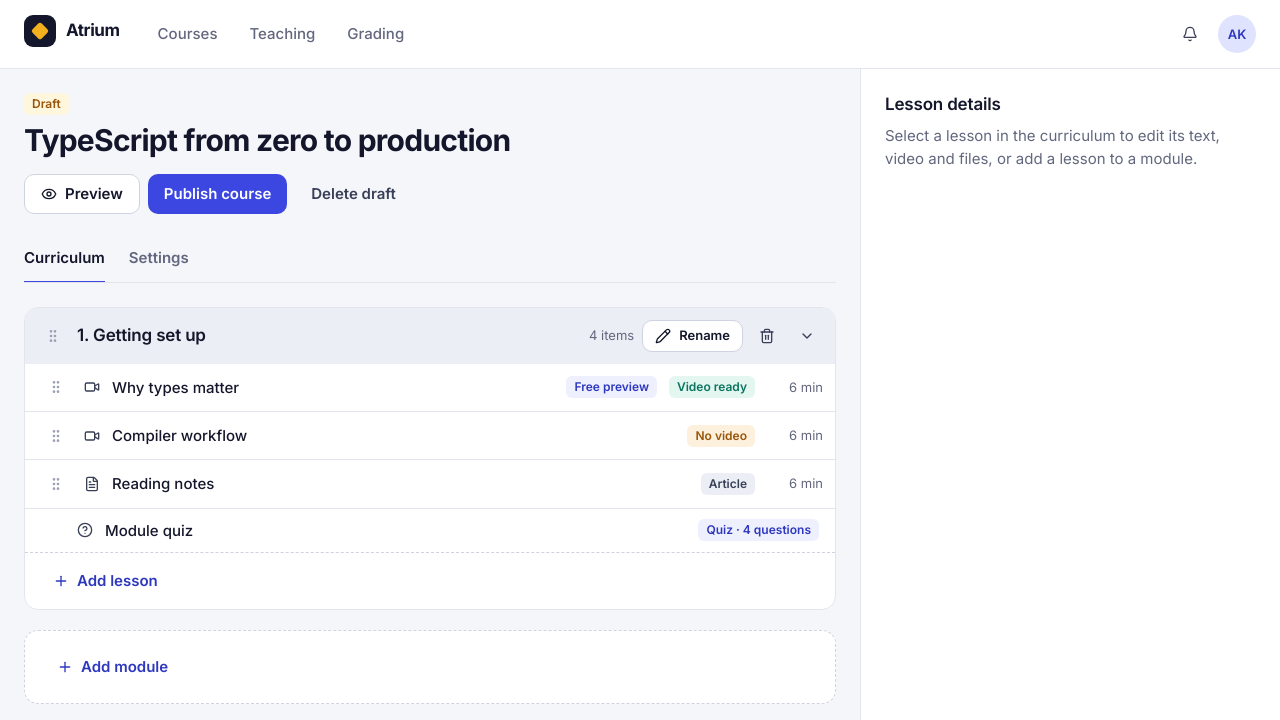
Test: course builder › asks before deleting a module
Step 1. Click the button named "Delete module Getting set up" → (767, 336), box [751,320,783,352]
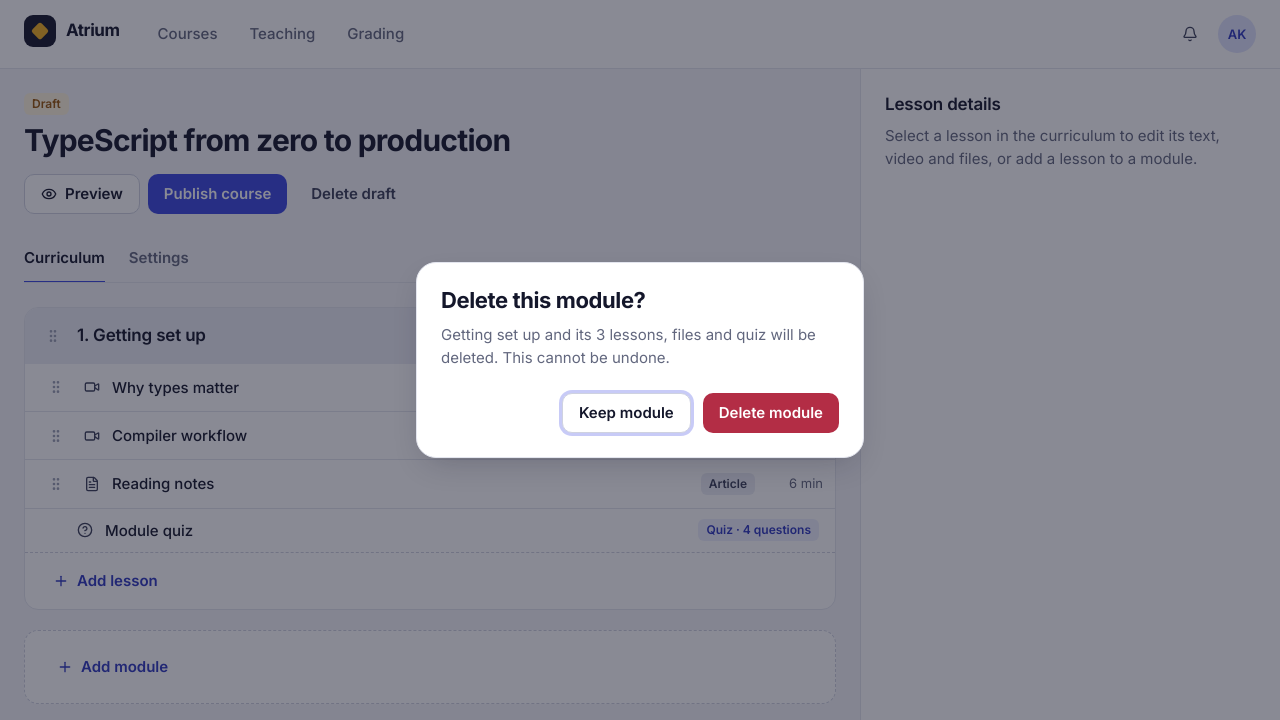
Now the text "and its 3 lessons" is shown, box [441,324,816,367]
Step 2. Click the button "Keep module" → (626, 413), box [562,393,691,433]
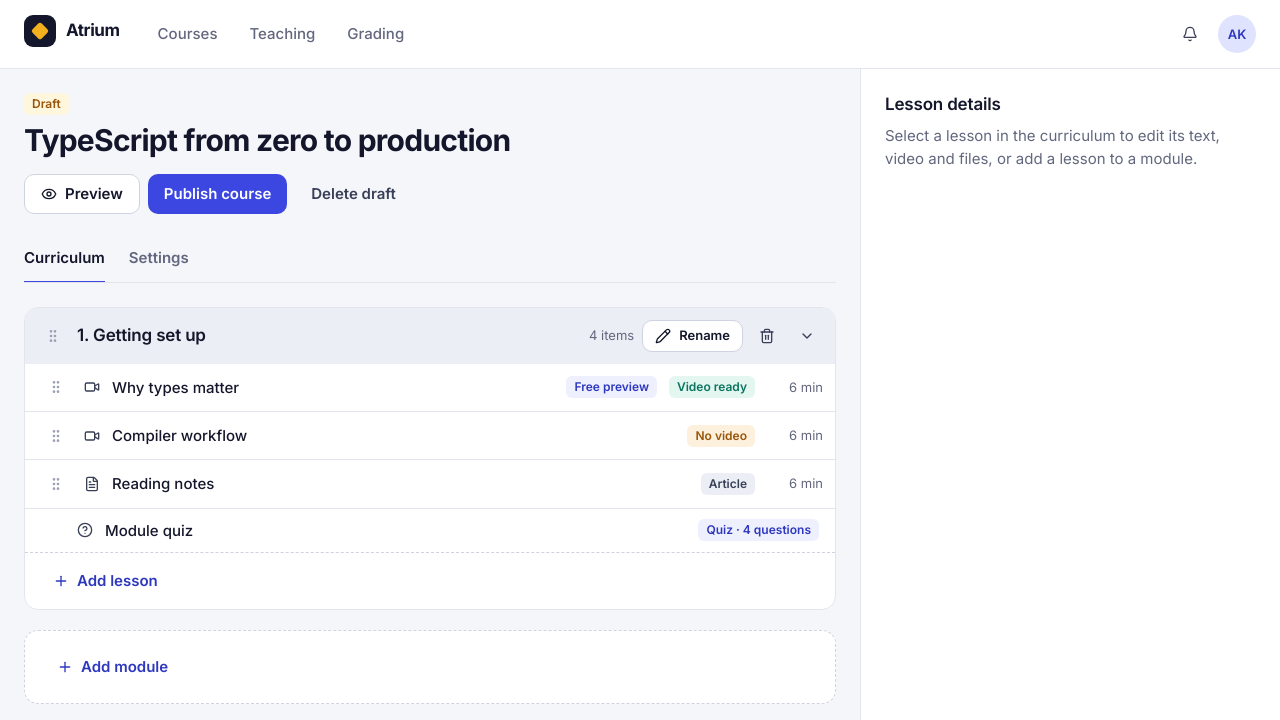
Step 3. Click the button named "Delete module Getting set up" → (767, 336), box [751,320,783,352]
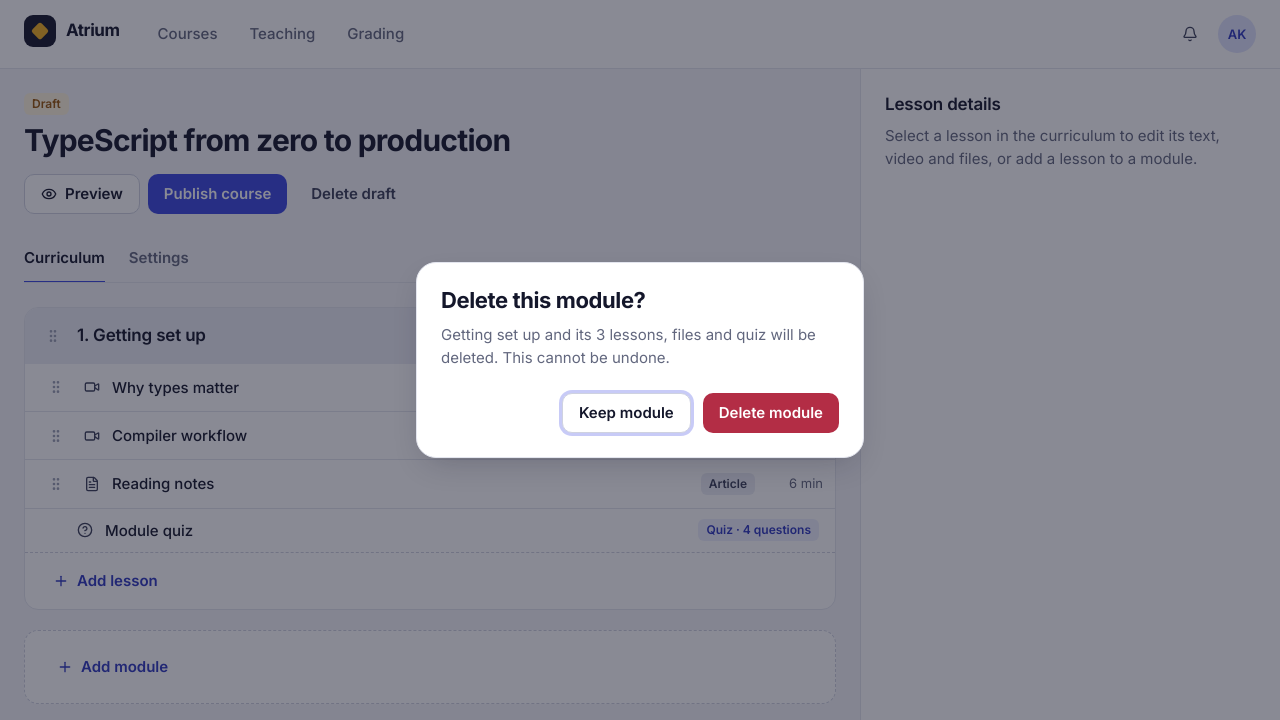
Step 4. Click the button "Delete module" → (771, 413), box [703,393,839,433]
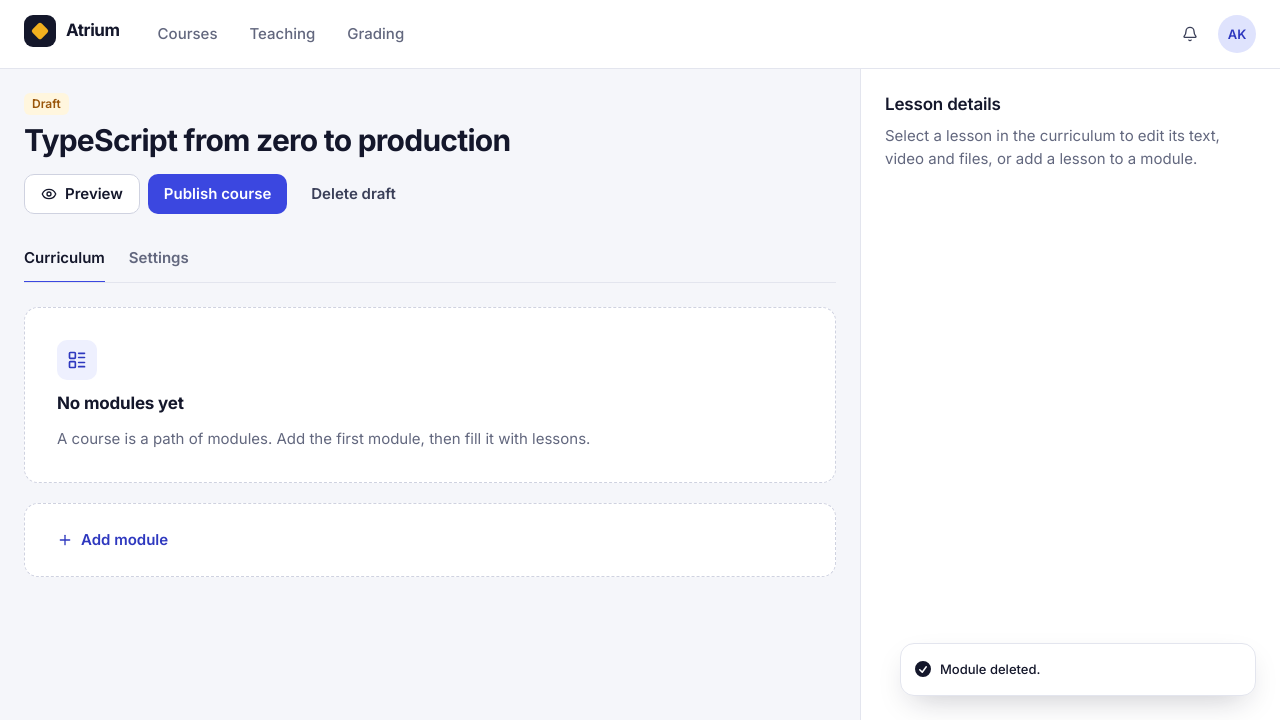
Now the heading "No modules yet" is shown, box [57,392,184,415]
